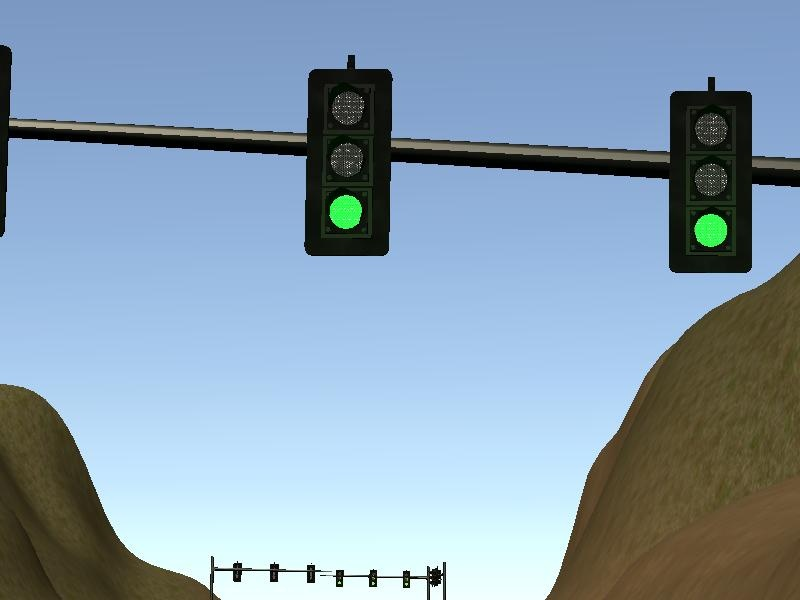green: (306, 65, 392, 256), (666, 90, 756, 271)
